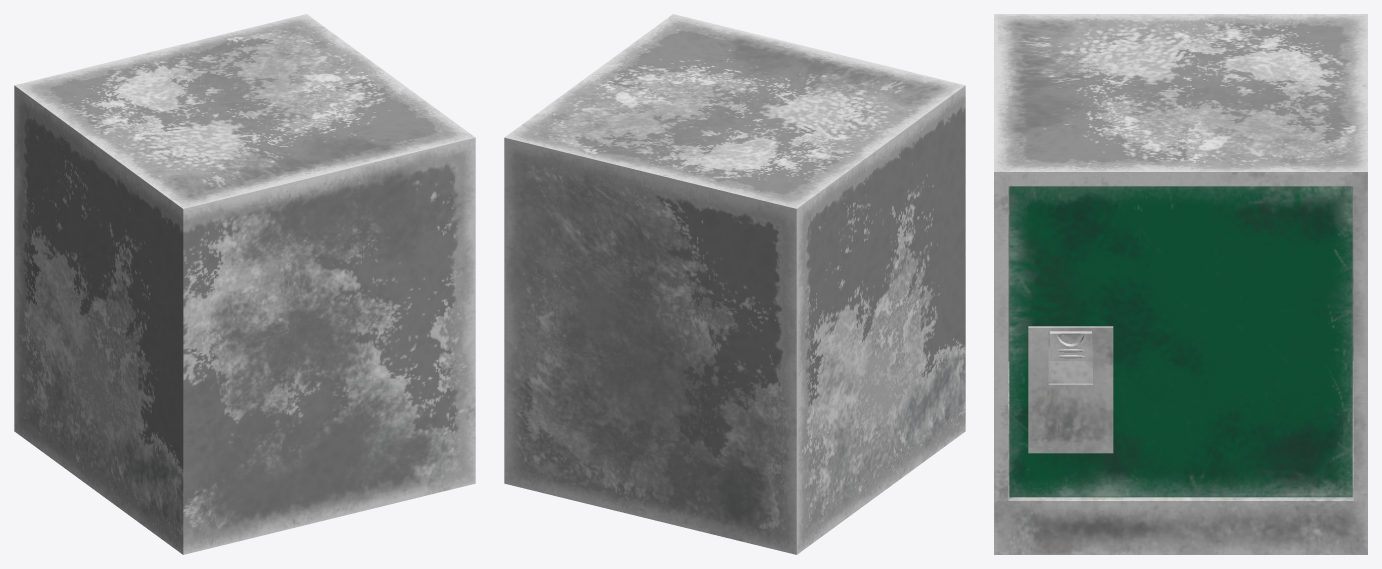
The model's file is safe.fbx.
3 renders of one model, left to right at view 1: azimuth 30°, elevation 25°; view 2: azimuth 150°, elevation 25°; view 3: azimuth 270°, elevation 25°, orthographic. The views are drawn at different scales.
Parts seen in each view (by area): view 1: pCube1; view 2: pCube1; view 3: pCube7, pCube1.
Part boxes in pixels (box(x1,y1,x2,y2)): pCube1: box(14, 14, 475, 554); pCube1: box(504, 14, 965, 554); pCube7: box(1009, 186, 1352, 497); pCube1: box(994, 14, 1367, 554).
Size of the model in its own units: 4.43 by 4.97 by 4.39.
